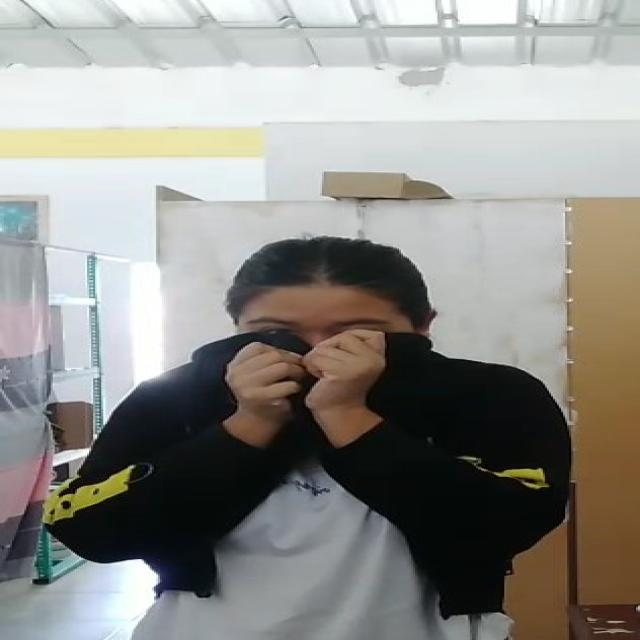8_ropa_rostro: (176, 325, 449, 415)
